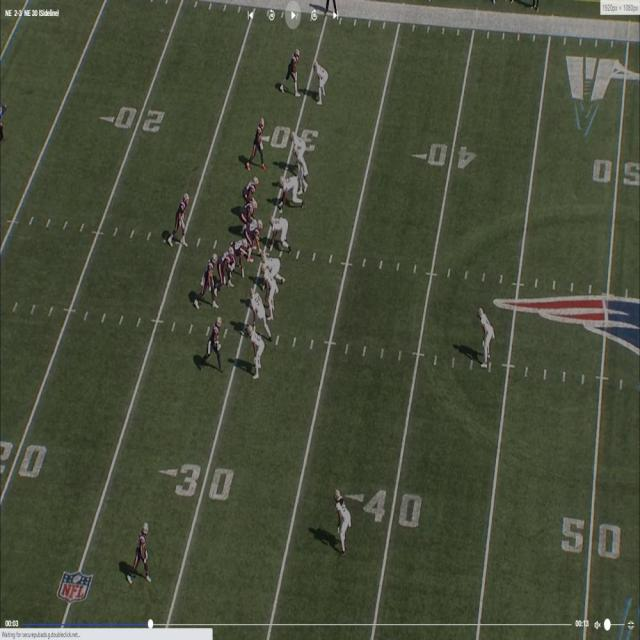center: (248, 219, 266, 253)
db: (479, 306, 493, 368), (338, 494, 352, 554), (246, 327, 262, 377), (316, 61, 330, 103), (290, 128, 305, 152)
lb: (294, 144, 309, 195), (262, 266, 276, 316)
qb: (176, 190, 191, 244)
skill: (131, 522, 150, 583), (200, 254, 219, 308), (205, 316, 223, 366), (284, 47, 301, 95), (250, 116, 267, 164)
